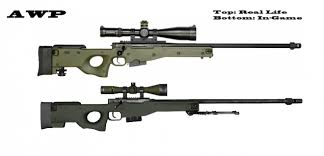gun: (35, 19, 302, 78), (36, 81, 304, 132)
